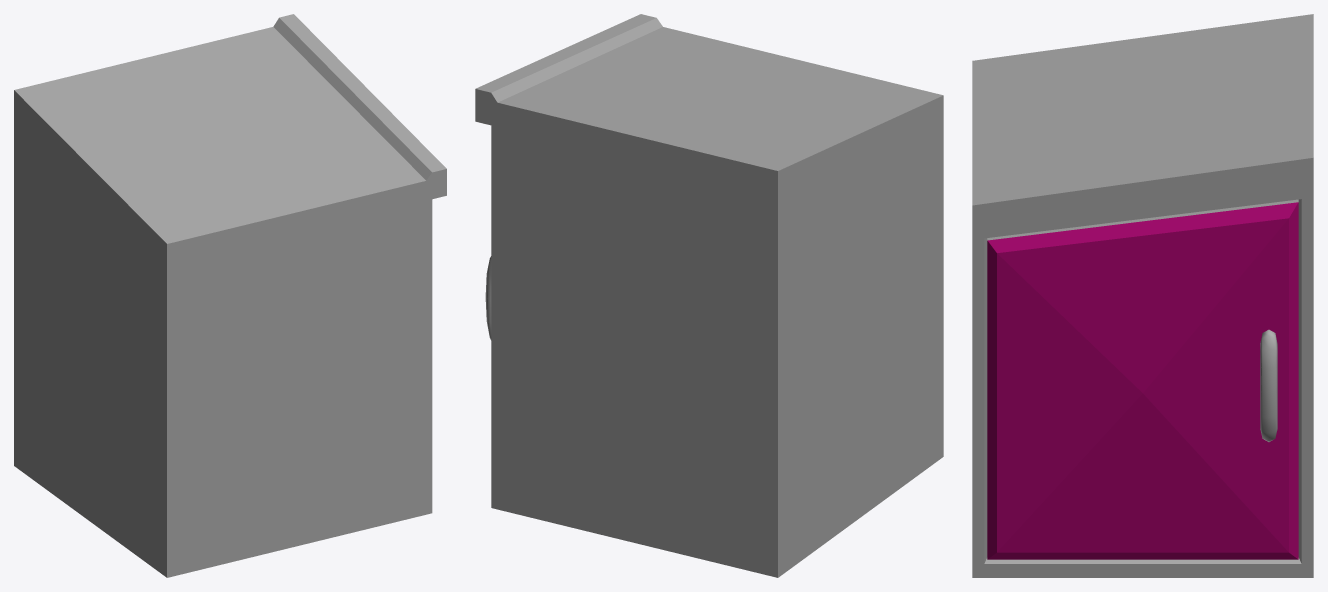
File: counter.fbx
The picture shows the model from 3 angles, left to right: view 1: azimuth 30°, elevation 25°; view 2: azimuth 150°, elevation 25°; view 3: azimuth 270°, elevation 25°; orthographic projection. The views are drawn at different scales.
Visible parts, largest first — view 1: counter; view 2: counter; view 3: counter, handle.
Boxes of the visible parts, left/top/right/bottom form: counter: left=14, top=14, right=446, bottom=577; counter: left=475, top=14, right=943, bottom=577; counter: left=972, top=14, right=1313, bottom=577; handle: left=1260, top=329, right=1277, bottom=441.
Size of the model in its own units: 2.99 by 3.8 by 2.75.
